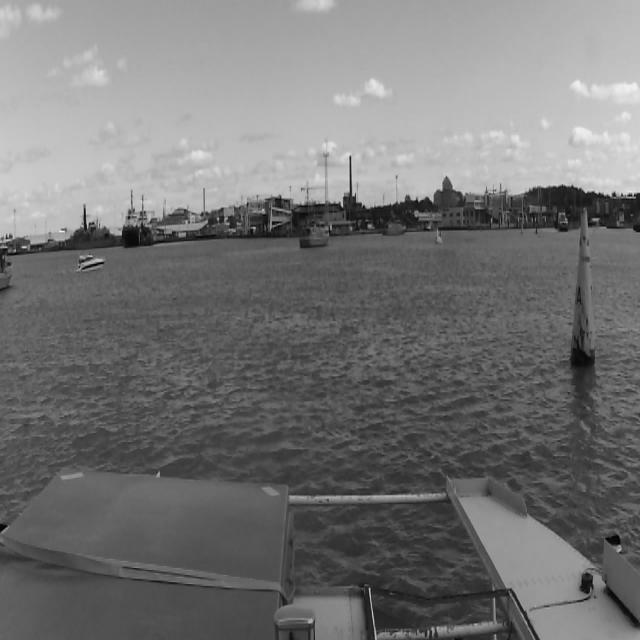buoy: (575, 208, 596, 361)
ship: (50, 209, 116, 250), (302, 218, 332, 248), (123, 194, 139, 250), (138, 196, 152, 244), (75, 254, 107, 270), (384, 216, 406, 235), (558, 209, 568, 232)
